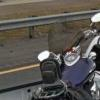Motorcycle: (31, 37, 100, 100)
